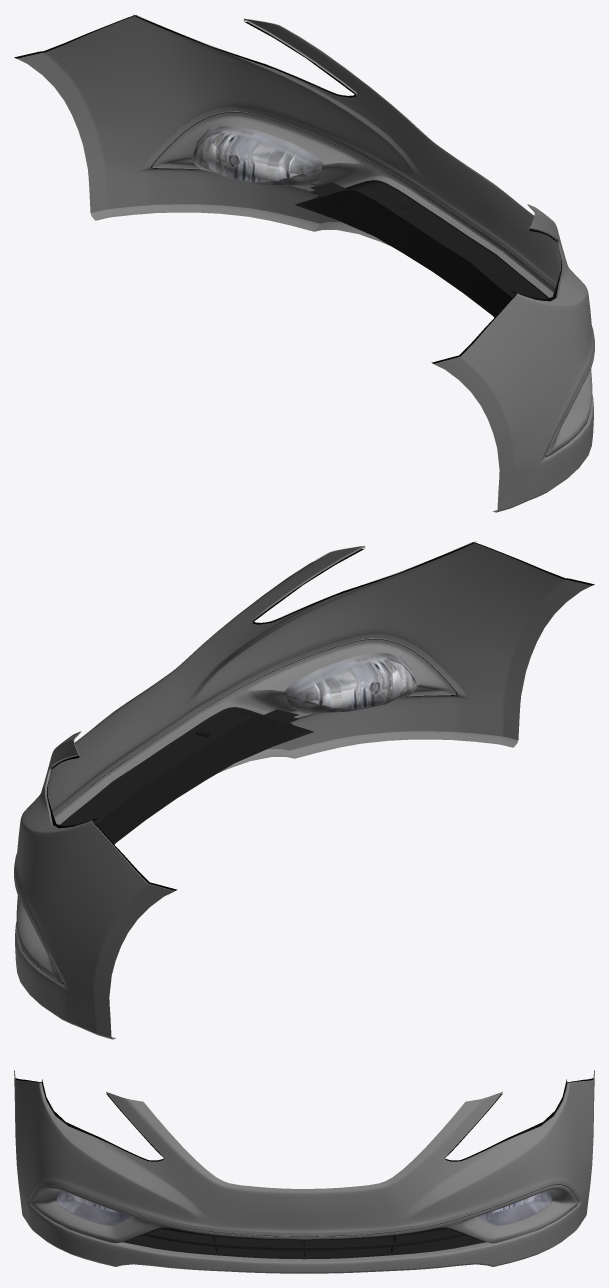
3 views of the same model, one above another, from view 1: azimuth 30°, elevation 25°; view 2: azimuth 150°, elevation 25°; view 3: azimuth 270°, elevation 25° (orthographic). The views are drawn at different scales.
Parts seen in each view (by area): view 1: E317_021G_C_E317_021G_C_4_DaS, E317_021G_C_E317_021G_C_6_D, E317_021G_C_E317_021G_C_4_DaS_E, E317_021G_C_E317_021G_C_1_N, E317_021G_C_E317_021G_C_5_D, E317_021G_C_E317_021G_C_8_D; view 2: E317_021G_C_E317_021G_C_4_DaS, E317_021G_C_E317_021G_C_6_D, E317_021G_C_E317_021G_C_4_DaS_E, E317_021G_C_E317_021G_C_2_N, E317_021G_C_E317_021G_C_5_D, E317_021G_C_E317_021G_C_8_D; view 3: E317_021G_C_E317_021G_C_4_DaS, E317_021G_C_E317_021G_C_5_D, E317_021G_C_E317_021G_C_4_DaS_E, E317_021G_C_E317_021G_C_8_D, E317_021G_C_E317_021G_C_7_DTaSI, E317_021G_C_E317_021G_C_3_DTaSI, E317_021G_C_E317_021G_C_1_N, E317_021G_C_E317_021G_C_2_N, E317_021G_C_E317_021G_C_6_D.
Boxes of the visible parts, <box> form: E317_021G_C_E317_021G_C_4_DaS: <box>17,16,594,510</box>; E317_021G_C_E317_021G_C_6_D: <box>295,190,511,317</box>; E317_021G_C_E317_021G_C_4_DaS_E: <box>90,15,594,512</box>; E317_021G_C_E317_021G_C_1_N: <box>191,125,323,186</box>; E317_021G_C_E317_021G_C_5_D: <box>296,180,548,299</box>; E317_021G_C_E317_021G_C_8_D: <box>14,14,590,456</box>; E317_021G_C_E317_021G_C_4_DaS: <box>14,543,591,1037</box>; E317_021G_C_E317_021G_C_6_D: <box>97,717,313,844</box>; E317_021G_C_E317_021G_C_4_DaS_E: <box>14,542,518,1039</box>; E317_021G_C_E317_021G_C_2_N: <box>285,652,417,713</box>; E317_021G_C_E317_021G_C_5_D: <box>60,707,312,826</box>; E317_021G_C_E317_021G_C_8_D: <box>18,541,594,983</box>; E317_021G_C_E317_021G_C_4_DaS: <box>14,1072,594,1272</box>; E317_021G_C_E317_021G_C_5_D: <box>122,1227,486,1259</box>; E317_021G_C_E317_021G_C_4_DaS_E: <box>14,1070,594,1273</box>; E317_021G_C_E317_021G_C_8_D: <box>14,1071,594,1236</box>; E317_021G_C_E317_021G_C_7_DTaSI: <box>56,1191,130,1225</box>; E317_021G_C_E317_021G_C_3_DTaSI: <box>478,1191,552,1225</box>; E317_021G_C_E317_021G_C_1_N: <box>478,1191,551,1225</box>; E317_021G_C_E317_021G_C_2_N: <box>57,1191,130,1225</box>; E317_021G_C_E317_021G_C_6_D: <box>161,1227,447,1240</box>.
Bounding box in the file's own units: 82.16 × 62.01 × 212.
